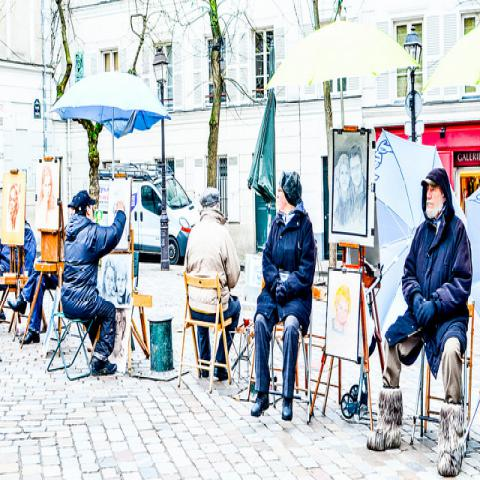car: (102, 167, 199, 262)
